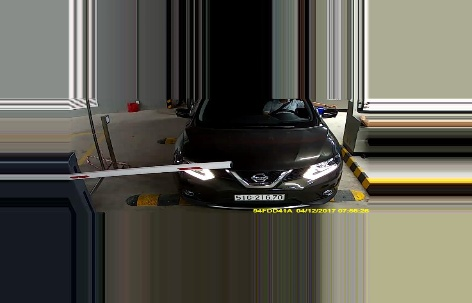plate: (235, 192, 283, 201)
